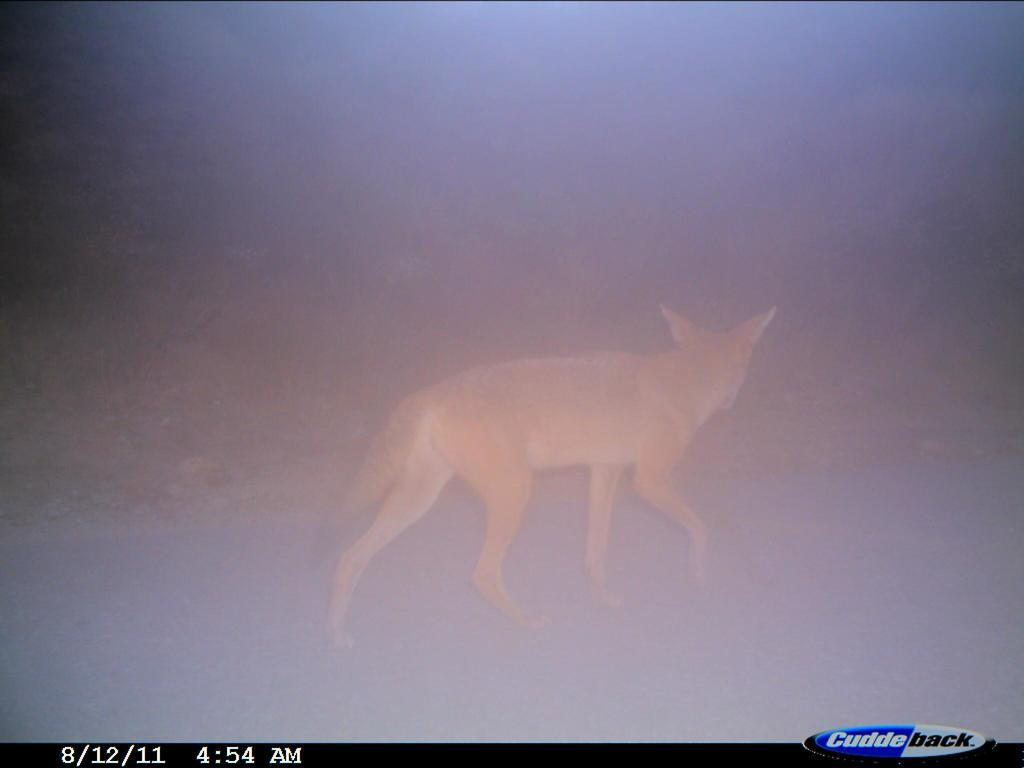coyote: (336, 282, 799, 660)
